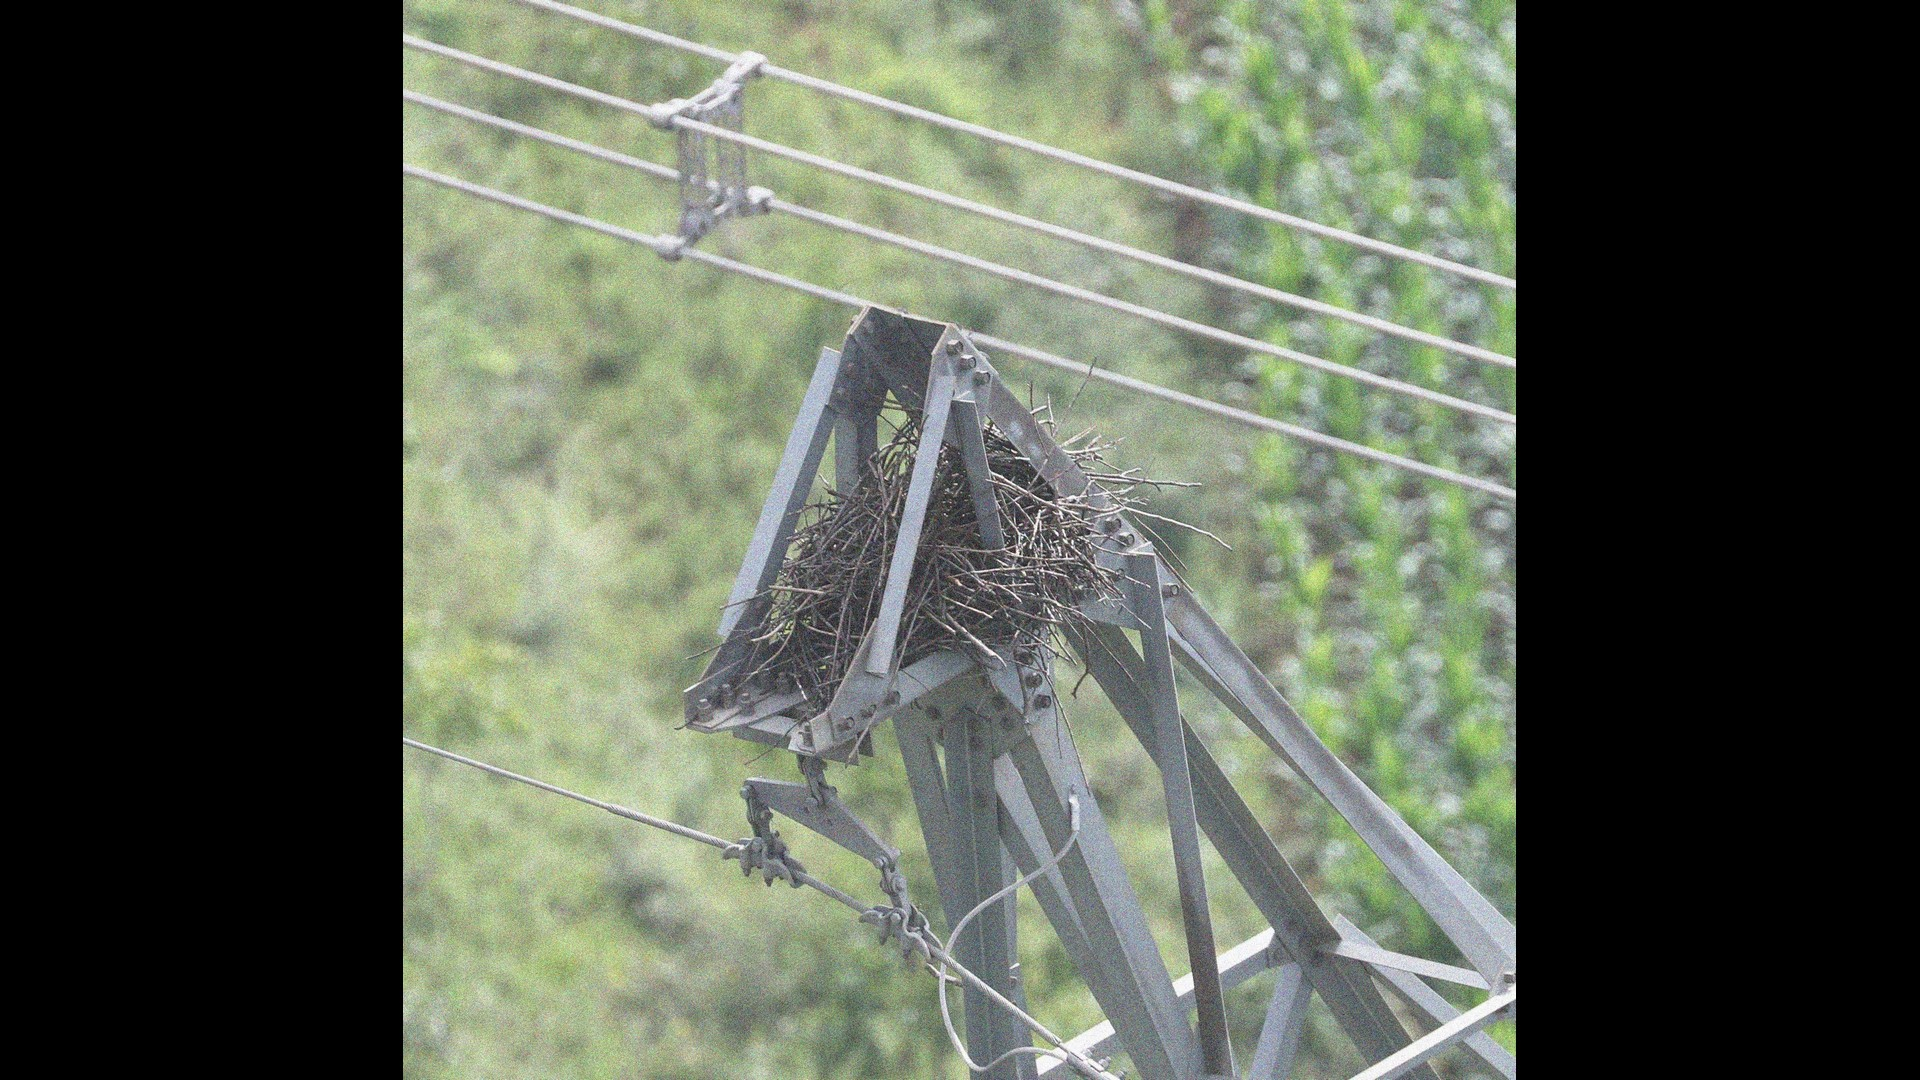niaowo: (754, 386, 1122, 696)
